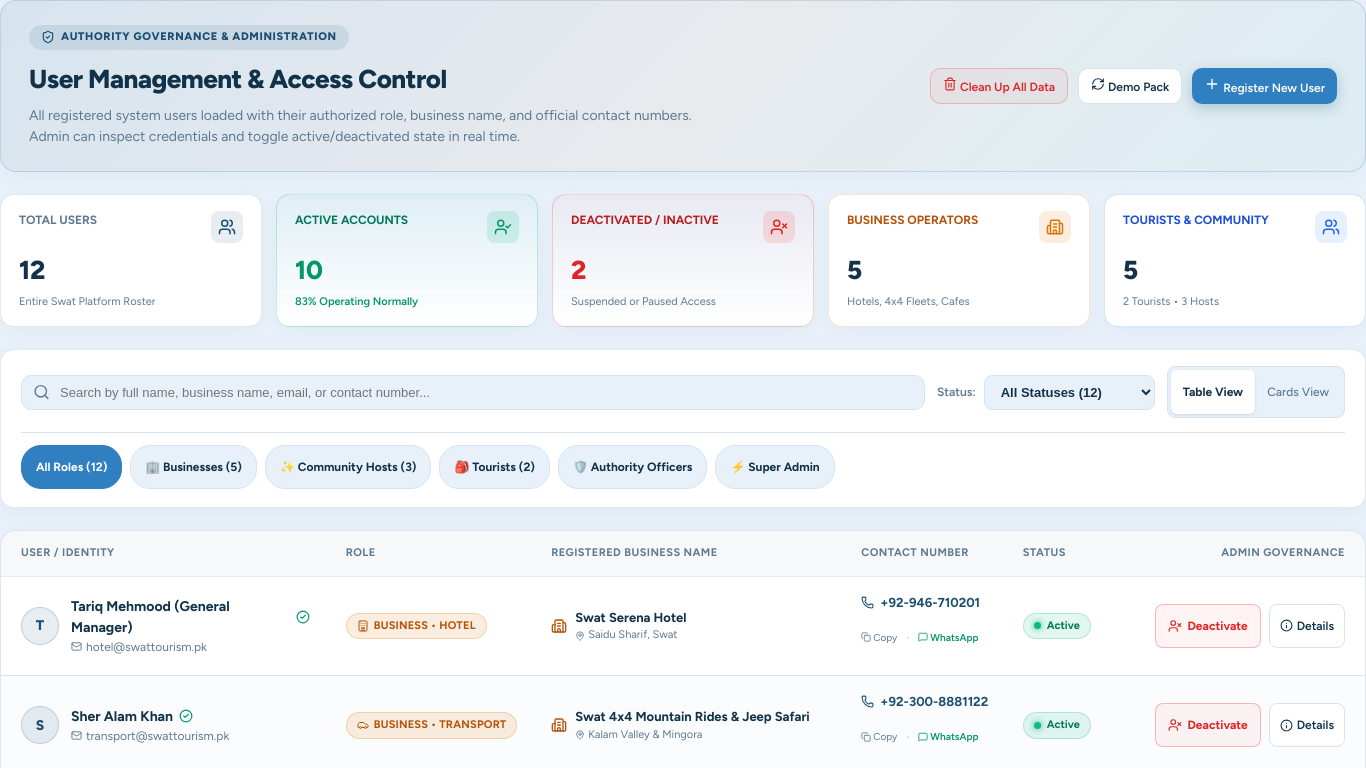
User Management Page on Admin & Authority Portal › filters users by search query (name, business name, or contact number)
The width and height of the screenshot is (1366, 768).
// Search by business name "Serena"
Replace the text in the field with test id "input-user-search" with "Serena": (473, 392) left=21, top=374, right=925, bottom=410
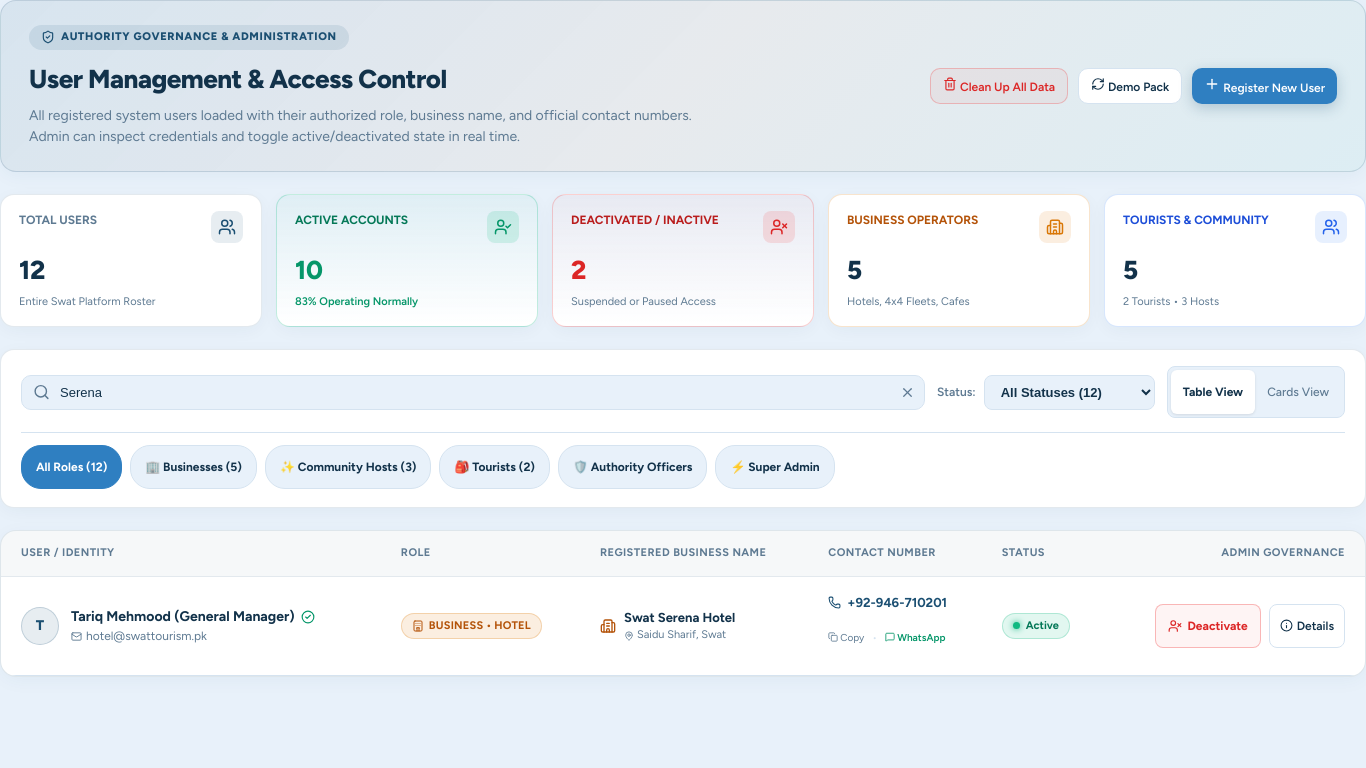
Expected: the text "Swat Serena Hotel" is shown, left=624, top=608, right=735, bottom=627
Expected: the text "Sher Alam Khan" is gone
// Search by contact number
Replace the text in the field with test id "input-user-search" with "8881122": (473, 392) left=21, top=374, right=925, bottom=410
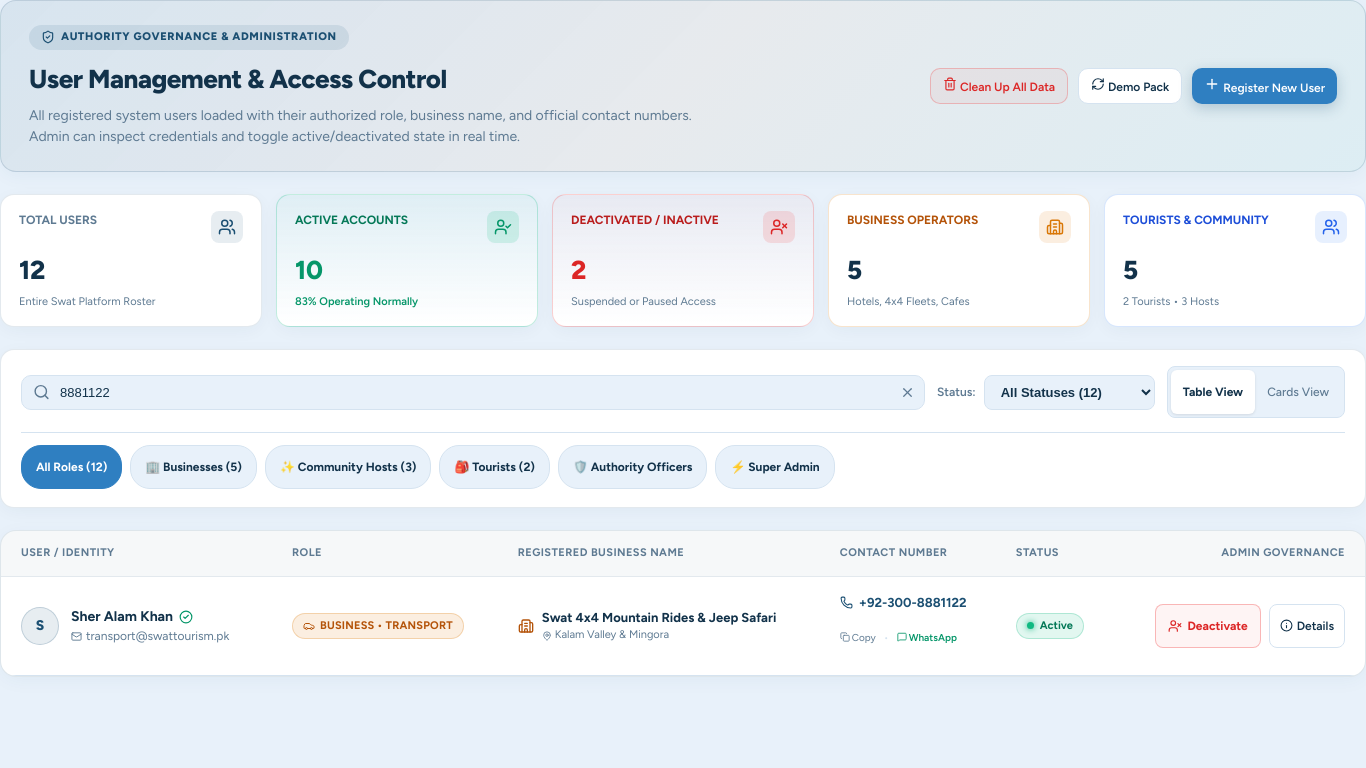
Expected: the text "Swat 4x4 Mountain Rides & Jeep Safari" is shown, left=542, top=608, right=776, bottom=627
Expected: the text "Swat Serena Hotel" is gone
